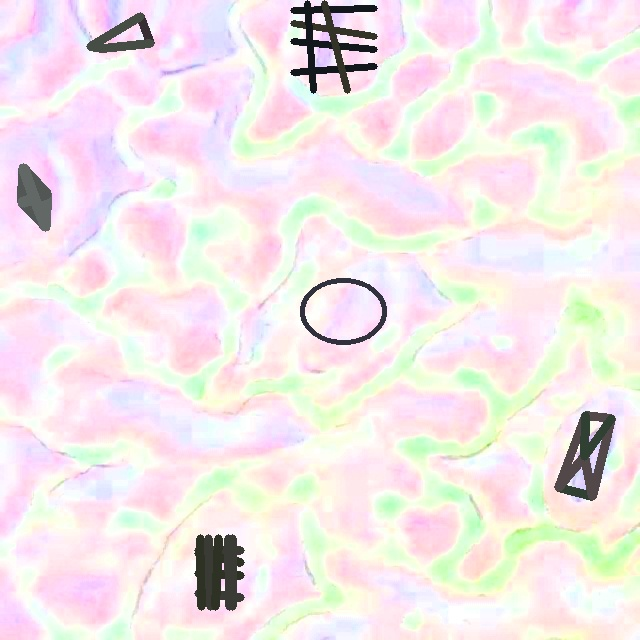close: (194, 534, 243, 610), (17, 164, 50, 231)
open: (290, 0, 377, 93), (299, 278, 388, 344), (554, 411, 615, 500), (87, 12, 153, 51)
